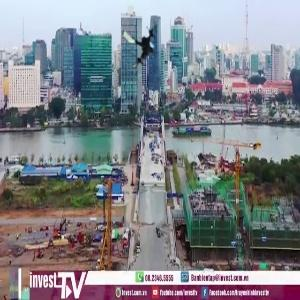drone: (115, 16, 168, 69)
